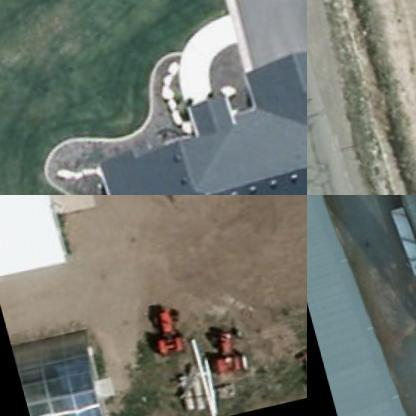tractor: (194, 324, 245, 382), (139, 304, 184, 366)
